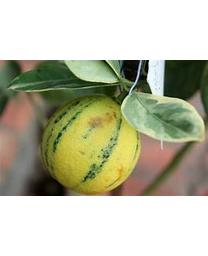lemon: (40, 93, 138, 195)
